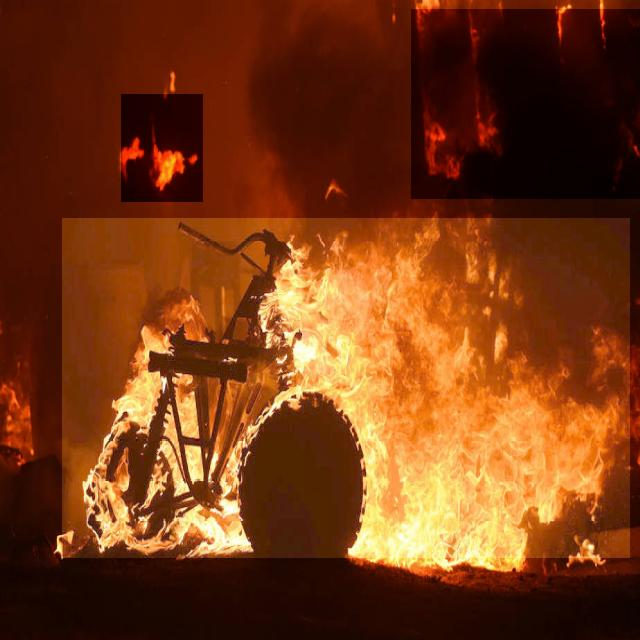Fire: (62, 218, 630, 558), (411, 9, 640, 199), (121, 94, 203, 202)
